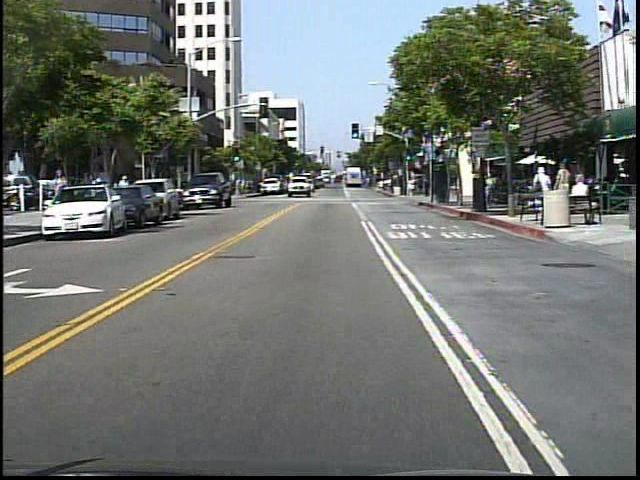person: (50, 165, 71, 219), (235, 175, 248, 201)
